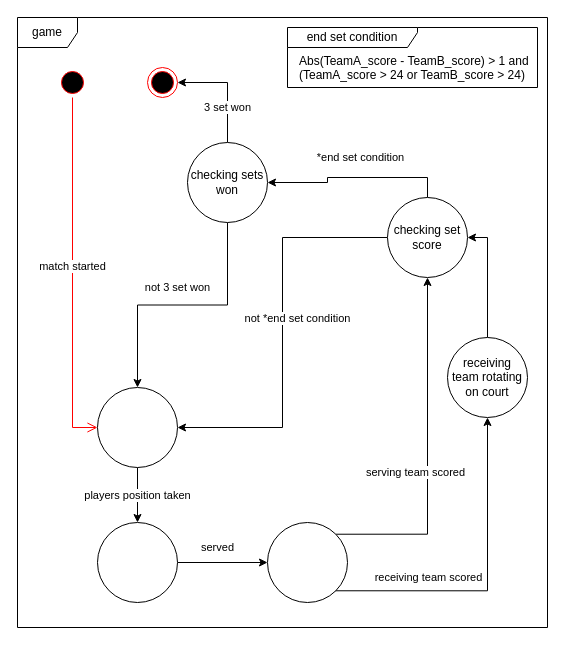
Some shapes in this 565 by 645 pixel diagram are drawn without their labels. Each missing label, with the centre of its shape:
"players taking positions" belongs at [137,427].
"rally" belongs at [307,562].
"serving" belongs at [137,562].
